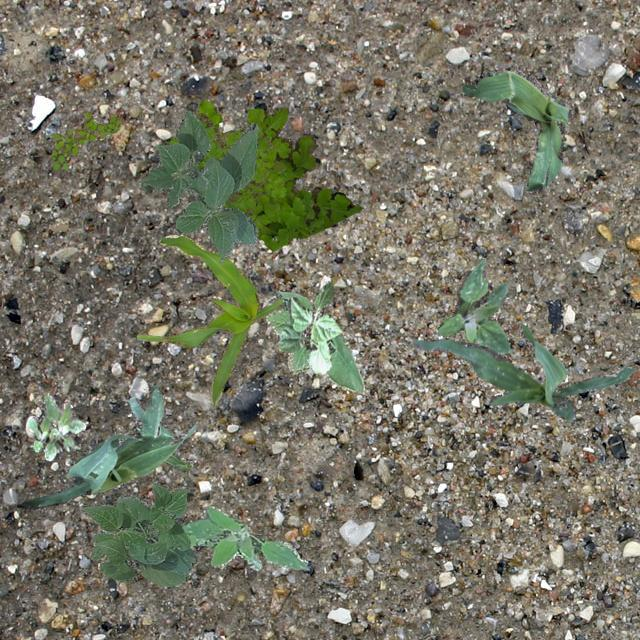crop: (136, 233, 282, 404), (16, 384, 196, 509), (412, 322, 634, 418), (138, 110, 258, 260), (462, 68, 572, 194), (80, 480, 196, 586), (264, 288, 364, 392), (276, 281, 342, 374)
weed: (168, 98, 362, 250), (194, 112, 286, 214), (180, 506, 306, 570), (436, 256, 509, 352), (51, 111, 122, 170), (26, 394, 84, 460)
